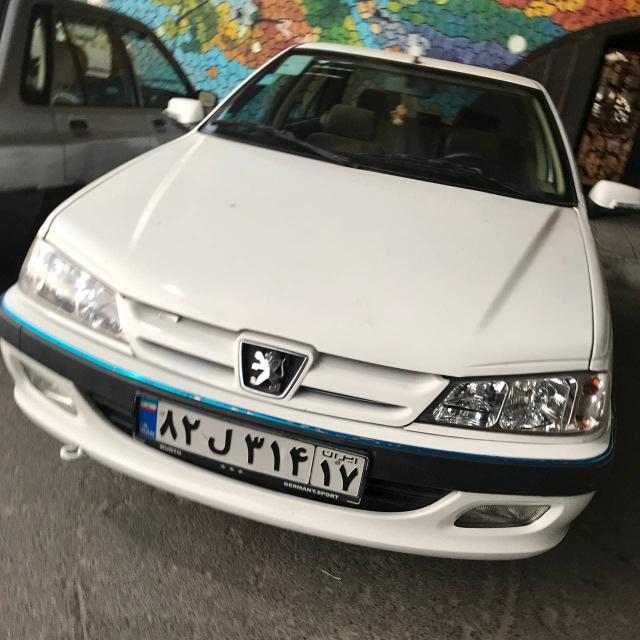Plates: (128, 396, 368, 498)
